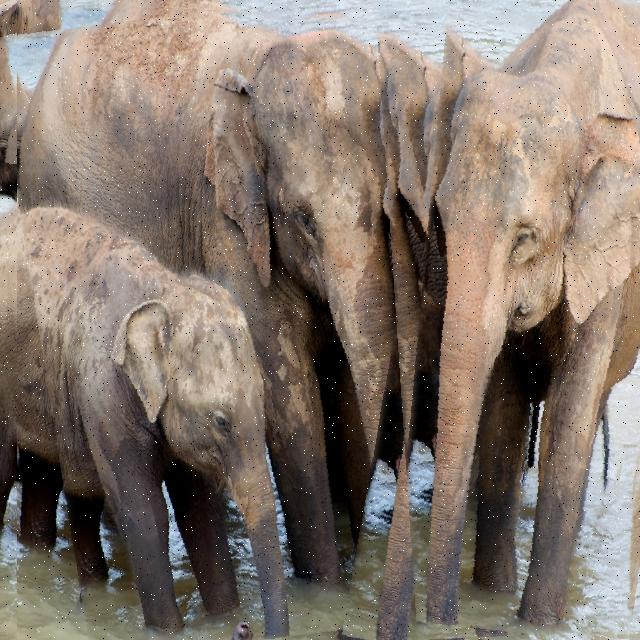elephant: (17, 0, 453, 640), (375, 0, 640, 640), (0, 163, 265, 640), (0, 0, 77, 192), (612, 396, 640, 639)
